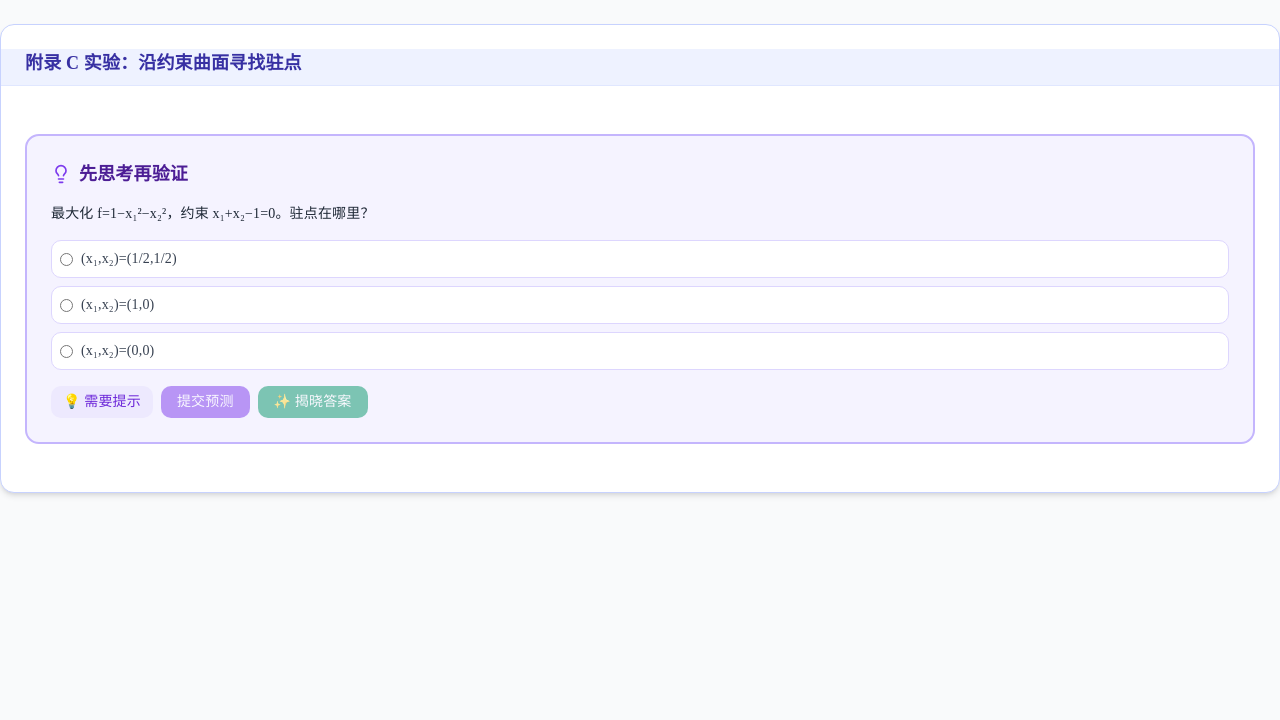
it: appendices A–C teaching-ready learning loops › checks the textbook constrained optimum along the feasible line
Click the radio button labelled "(x₁,x₂)=(1/2,1/2)".
click(66, 259)  # box [60, 252, 73, 266]
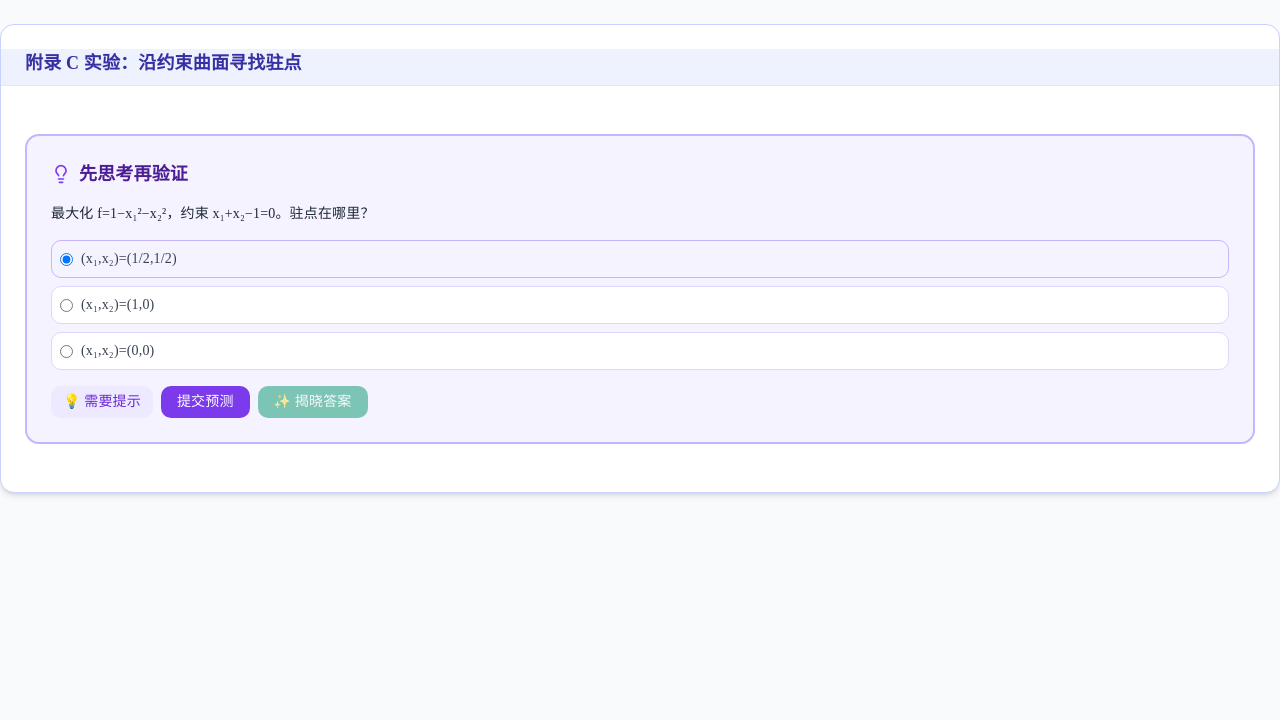
Click the button "提交预测".
click(205, 402)  # box [161, 386, 250, 418]
(page scrolled)
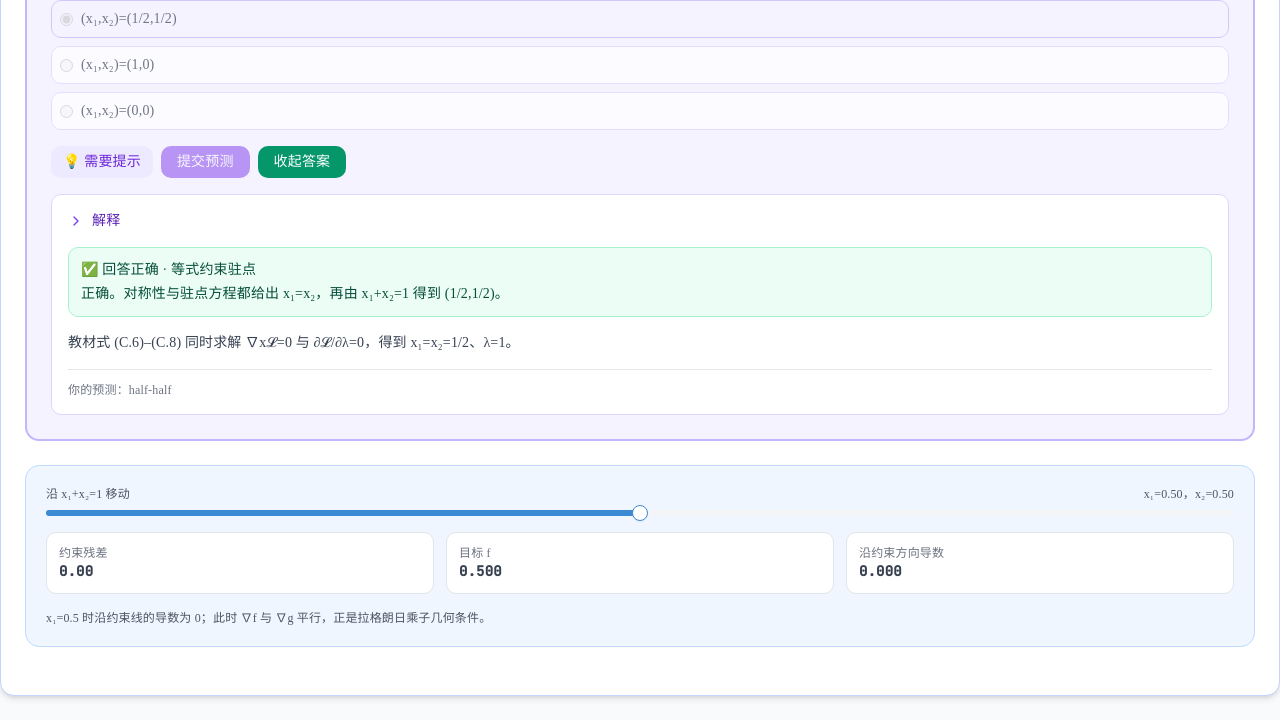
Expected: the element named "拉格朗日约束实验区" is shown, [25, 465, 1255, 647]
Expected: the element with test id "evaluation-feedback" shows "回答正确", [81, 262, 159, 277]
Expected: the text "x₁=0.50，x₂=0.50" is shown, [1144, 486, 1234, 502]
